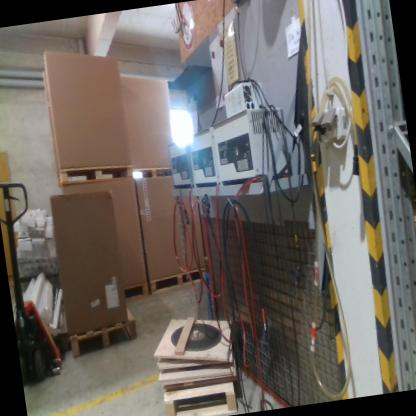pallet: (65, 307, 140, 360), (161, 381, 239, 416), (58, 156, 134, 188), (147, 267, 208, 295), (132, 160, 174, 184), (122, 280, 150, 304)
pallet_truck: (0, 170, 63, 388)
